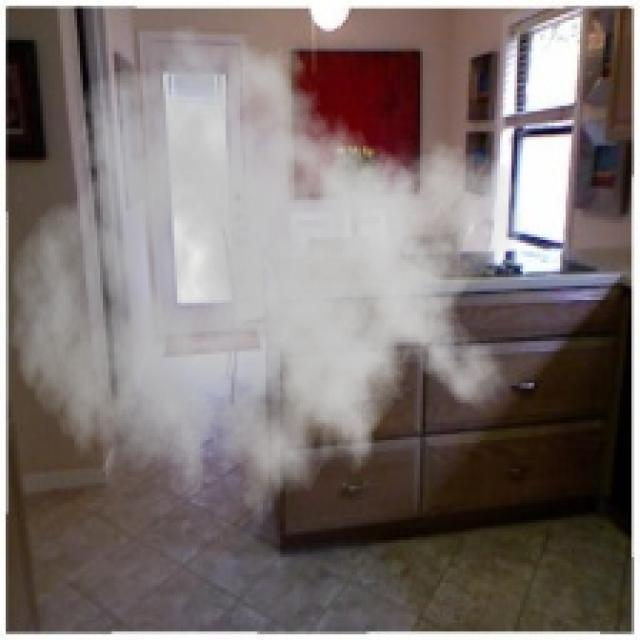Smoke: (8, 11, 526, 552)
